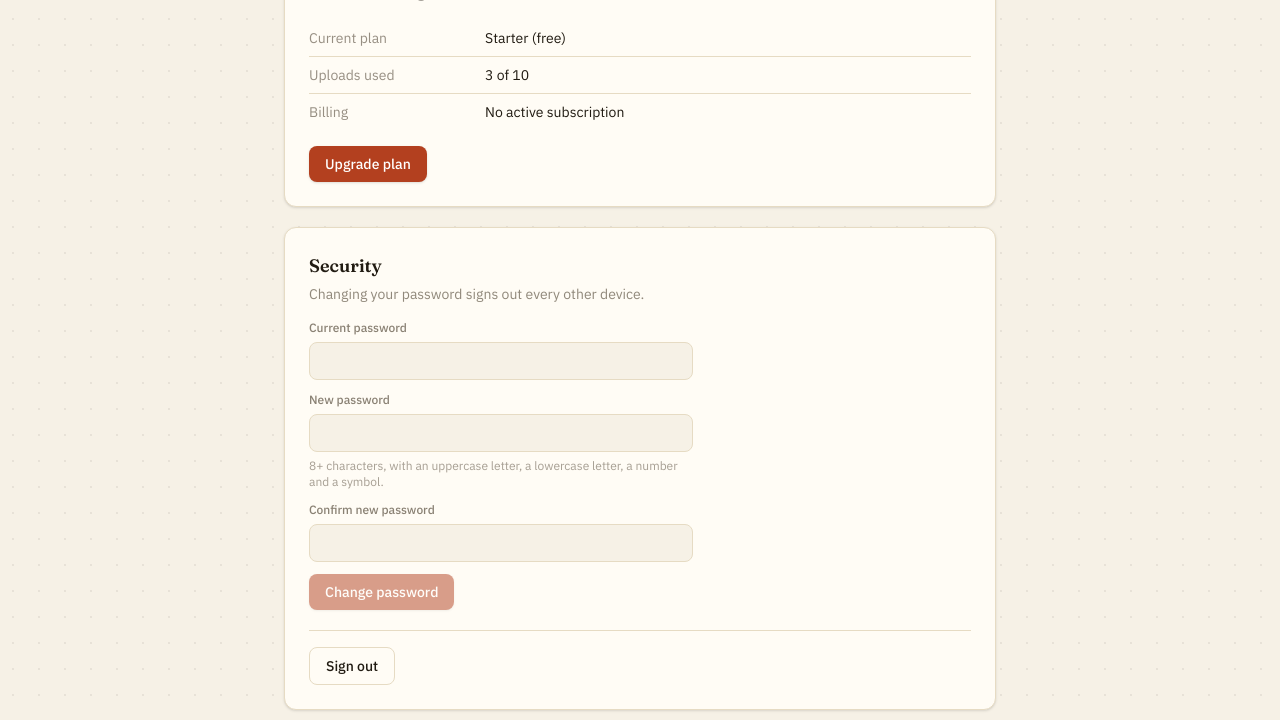
it: AccountSettings › checks the new passwords match before changing
(page scrolled)
Type "Old-pass1!" into the password field labelled "Current password" at (501, 361), box [309,342,693,380]
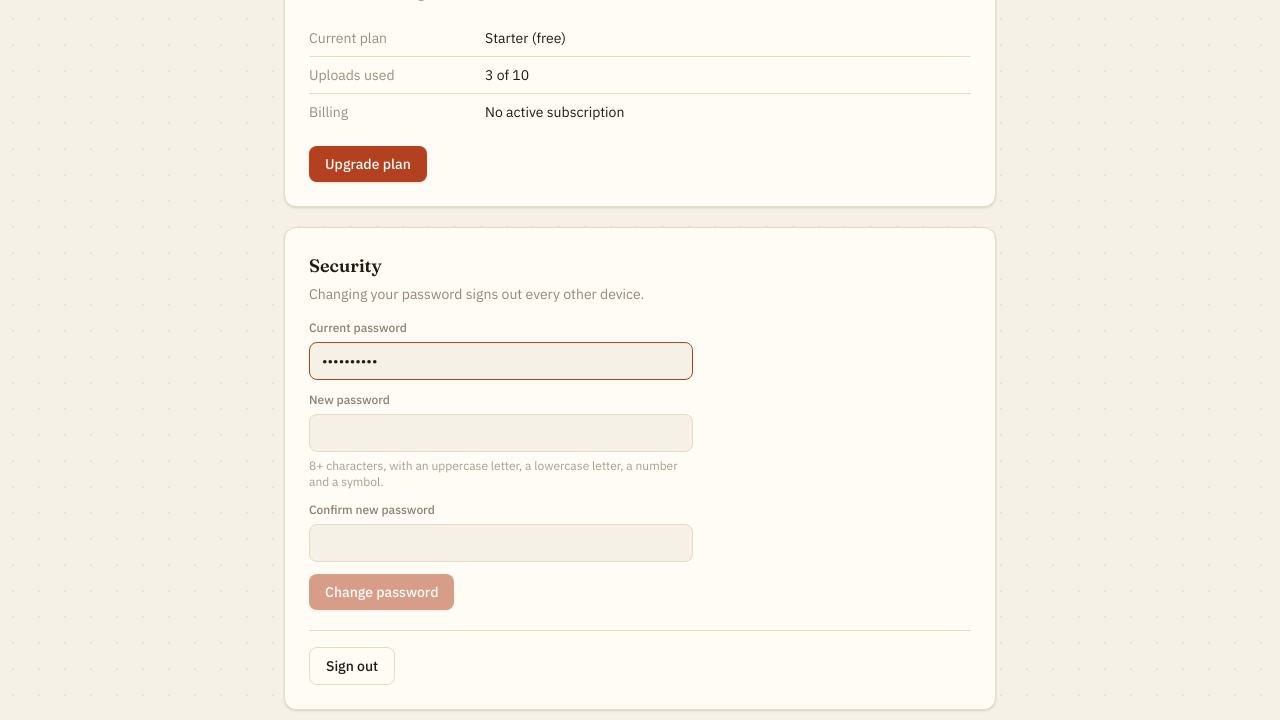
Type "New-pass1!" into the password field labelled "New password" at (501, 433), box [309,414,693,452]
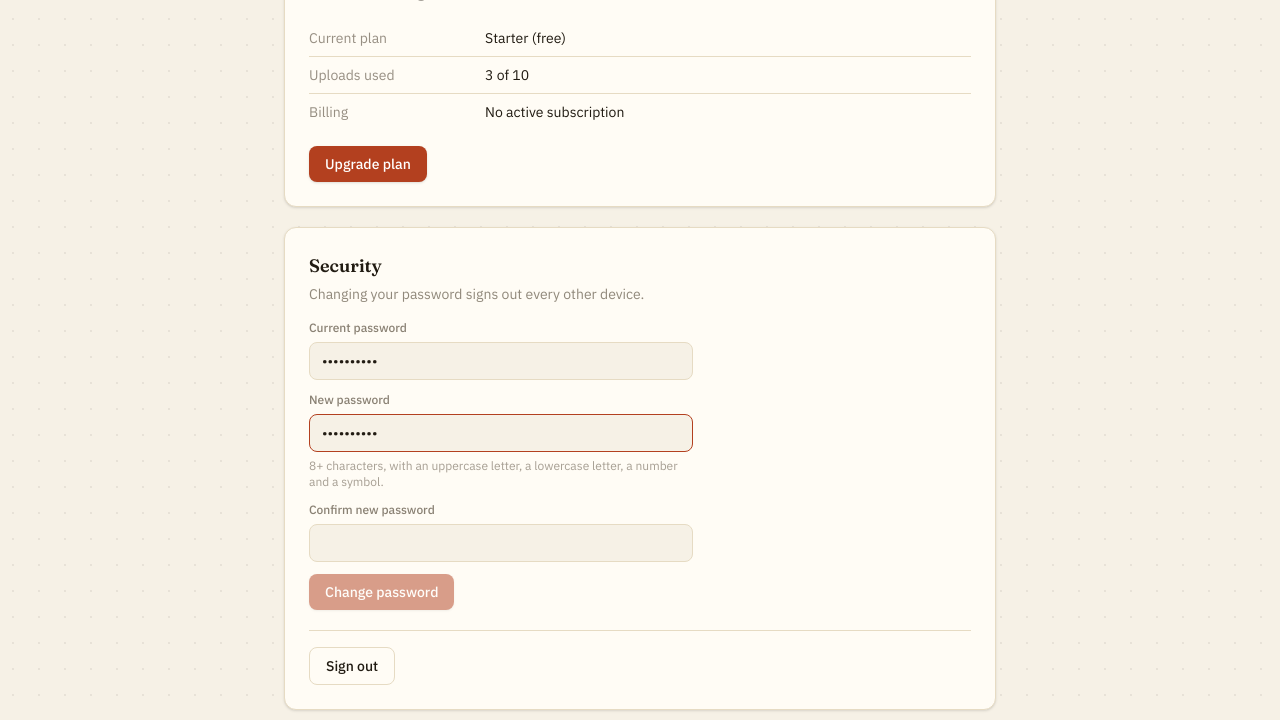
Type "Different1!" into the password field labelled "Confirm new password" at (501, 543), box [309,524,693,562]
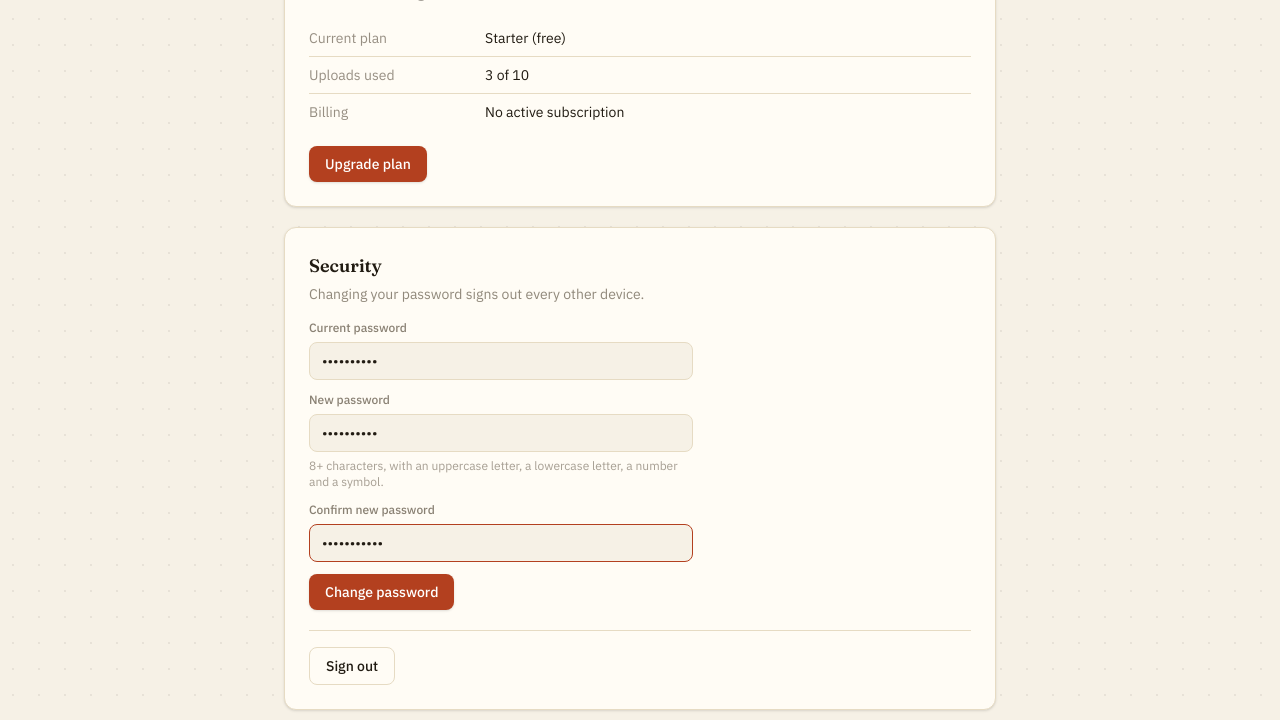
Click the button "Change password" at (382, 592), box [309,574,454,610]
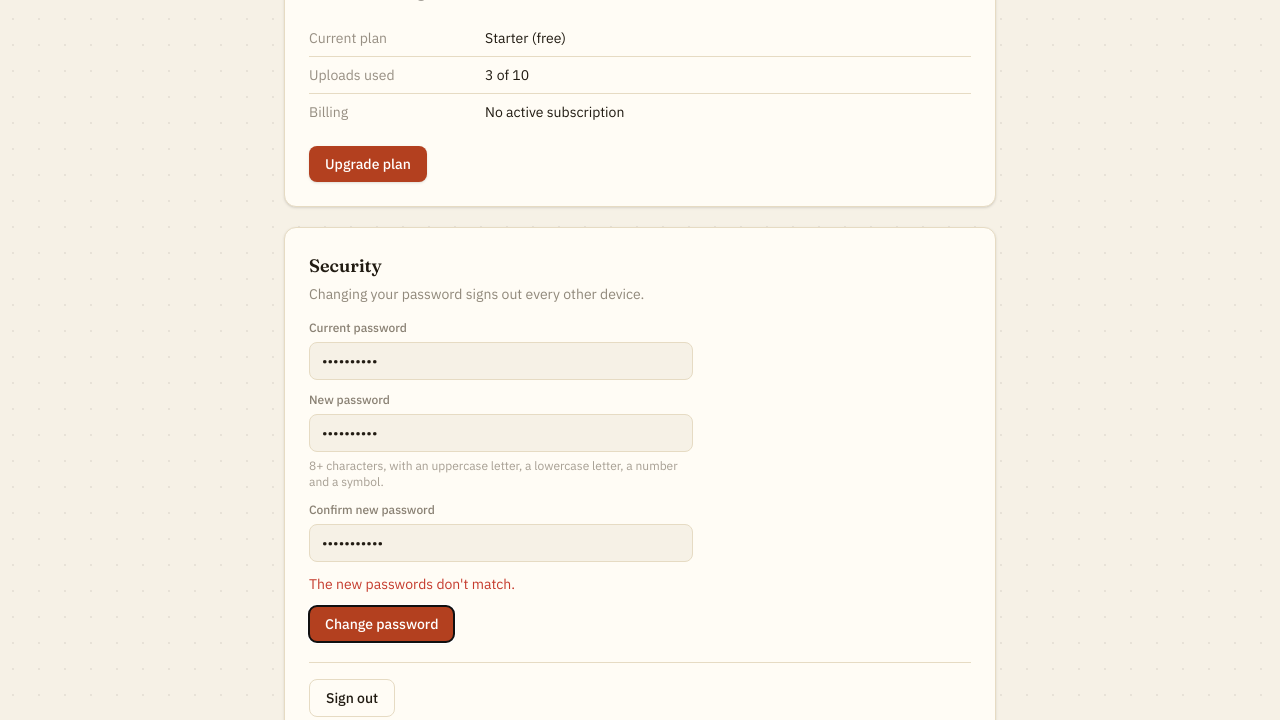
Now the message shows "don't match", box [309,575,515,593]
